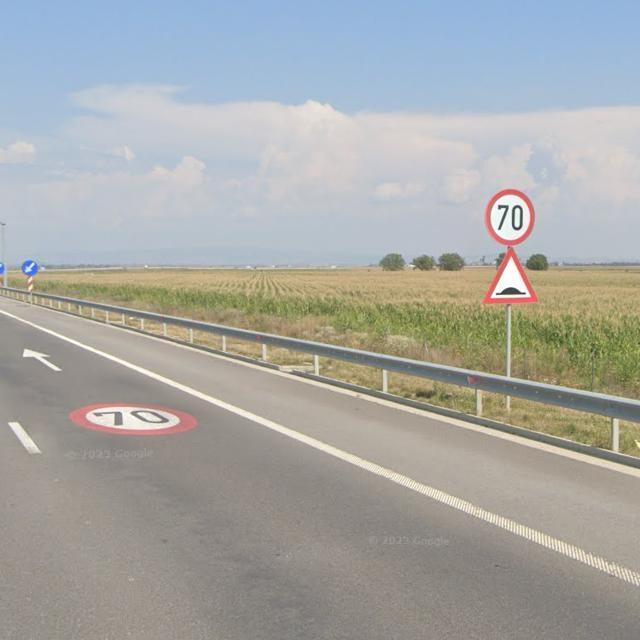forb_speed_over_70: (69, 399, 200, 437), (486, 188, 535, 246)
